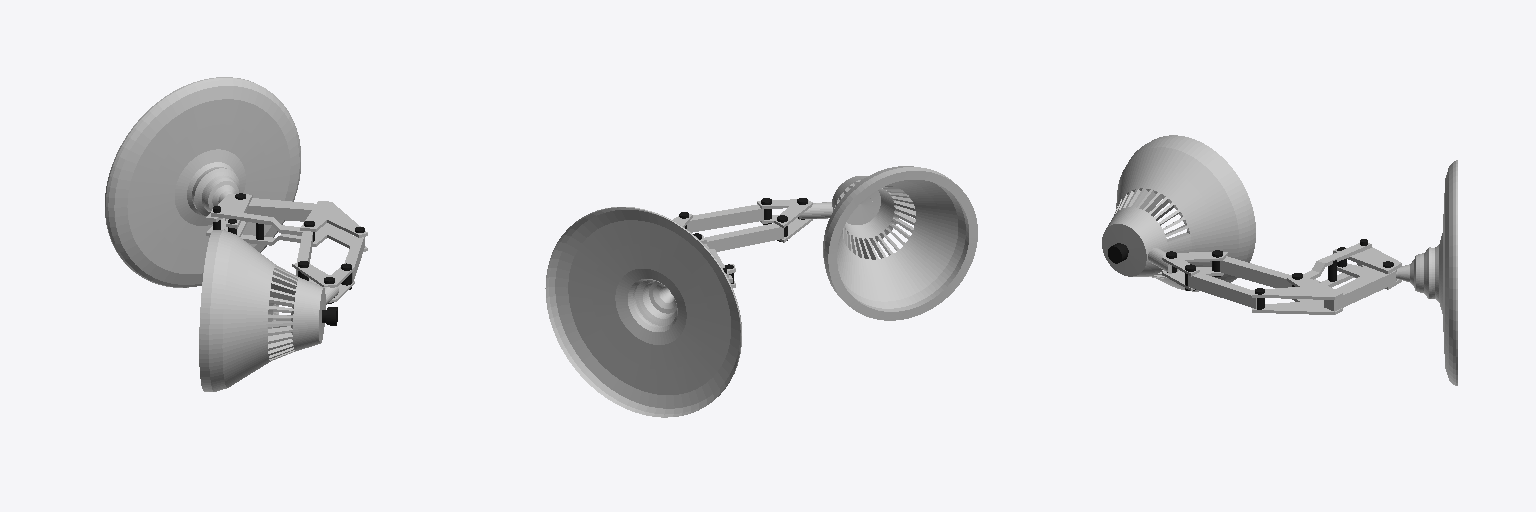
Rendered from Luxo.obj.
3 renders of one model, left to right at view 1: azimuth 30°, elevation 25°; view 2: azimuth 150°, elevation 25°; view 3: azimuth 270°, elevation 25°, orthographic.
Parts seen in each view (by area): view 1: Object.15, Object.24, Object.16, Object.17, Object.5, Object.21, Object.18, Object.8; view 2: Object.15, Object.24, Object.19, Object.20, Object.21; view 3: Object.24, Object.15, Object.16, Object.17, Object.19, Object.20, Object.18, Object.8, Object.21, Object.5.
Boxes of the visible parts, x1,y1,x2,y2 form: Object.15: [105, 77, 300, 287]; Object.24: [199, 230, 337, 391]; Object.16: [245, 198, 315, 221]; Object.17: [300, 201, 367, 237]; Object.5: [211, 209, 302, 235]; Object.21: [292, 263, 354, 287]; Object.18: [313, 223, 367, 251]; Object.8: [206, 194, 252, 228]; Object.15: [545, 207, 741, 417]; Object.24: [823, 166, 977, 320]; Object.19: [703, 223, 783, 251]; Object.20: [687, 204, 763, 232]; Object.21: [757, 199, 812, 227]; Object.24: [1102, 135, 1255, 291]; Object.15: [1396, 160, 1457, 385]; Object.16: [1324, 269, 1396, 311]; Object.17: [1252, 275, 1342, 299]; Object.19: [1220, 256, 1291, 287]; Object.20: [1188, 272, 1256, 308]; Object.18: [1252, 299, 1342, 314]; Object.8: [1333, 247, 1401, 273]; Object.21: [1162, 252, 1227, 276]; Object.5: [1303, 243, 1371, 279].
Bounding box in the file's own units: 36.09 × 26.46 × 41.7.